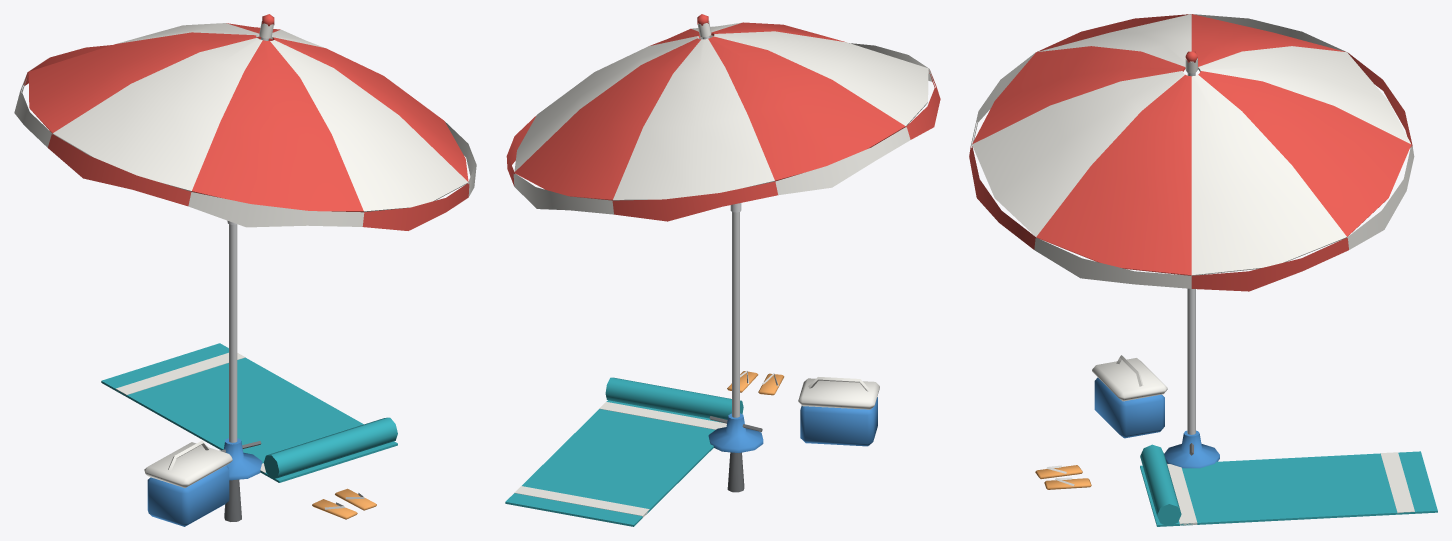
File: parasol.glb
The picture shows the model from 3 angles, left to right: view 1: azimuth 30°, elevation 25°; view 2: azimuth 150°, elevation 25°; view 3: azimuth 270°, elevation 25°; orthographic projection. The views are drawn at different scales.
Parts seen in each view (by area): view 1: parasol_body; view 2: parasol_body; view 3: parasol_body.
Part boxes in pixels (x1,y1,x2,y2): parasol_body: (14, 14, 476, 526); parasol_body: (505, 14, 940, 526); parasol_body: (969, 14, 1437, 526).
Size of what is drawn, in the model's own units: 2.47 by 2.95 by 2.65.
